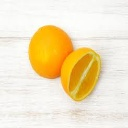orange: (29, 26, 73, 78)
